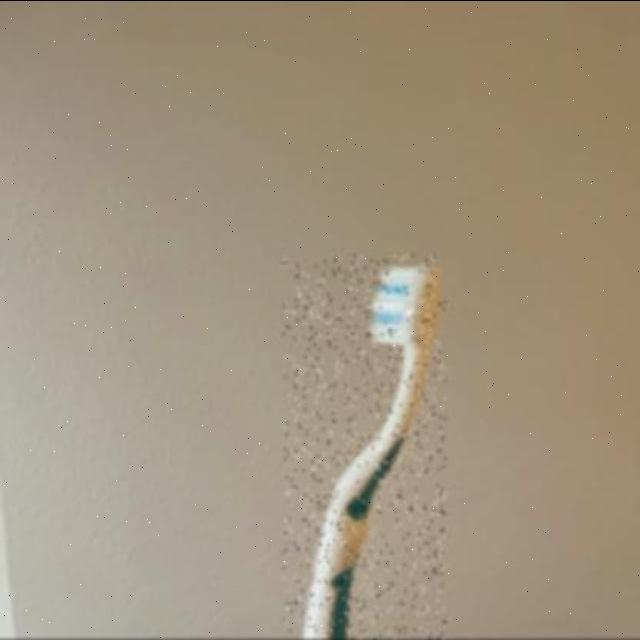toothbrush: (282, 256, 446, 640)
